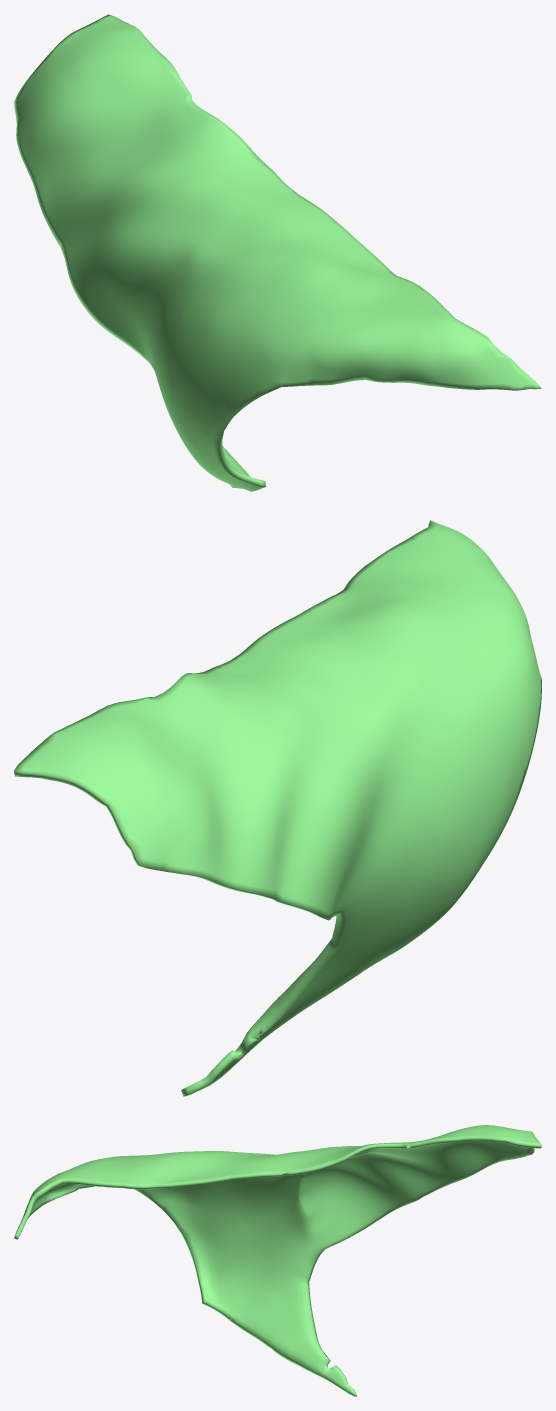
The model's file is External_Obliques_Muscle_Right.fbx.
The picture shows the model from 3 angles, top to bottom: view 1: azimuth 30°, elevation 25°; view 2: azimuth 150°, elevation 25°; view 3: azimuth 270°, elevation 25°; orthographic projection. The views are drawn at different scales.
Parts seen in each view (by area): view 1: External_Obliques_Muscle_Right; view 2: External_Obliques_Muscle_Right; view 3: External_Obliques_Muscle_Right.
Part boxes in pixels (left/top/right/bottom): External_Obliques_Muscle_Right: left=14, top=14, right=541, bottom=491; External_Obliques_Muscle_Right: left=14, top=520, right=541, bottom=1096; External_Obliques_Muscle_Right: left=14, top=1125, right=541, bottom=1396.
Bounding box in the file's own units: 115 × 196 × 359.
